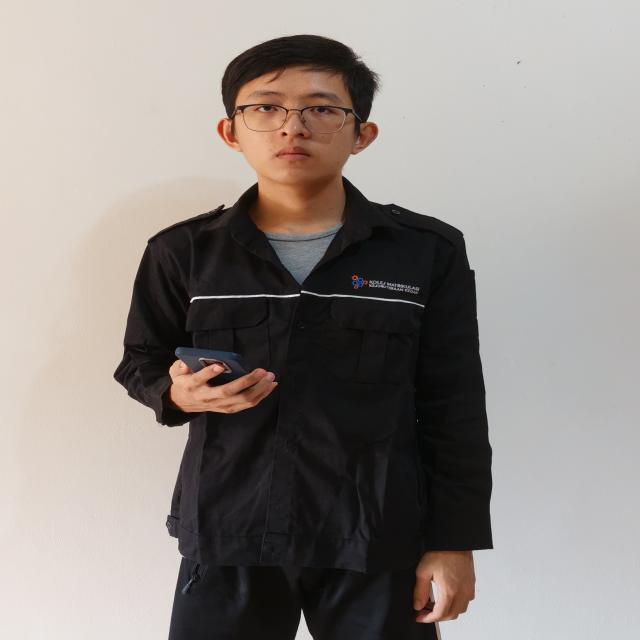person_with_labcoat: (115, 35, 492, 640)
